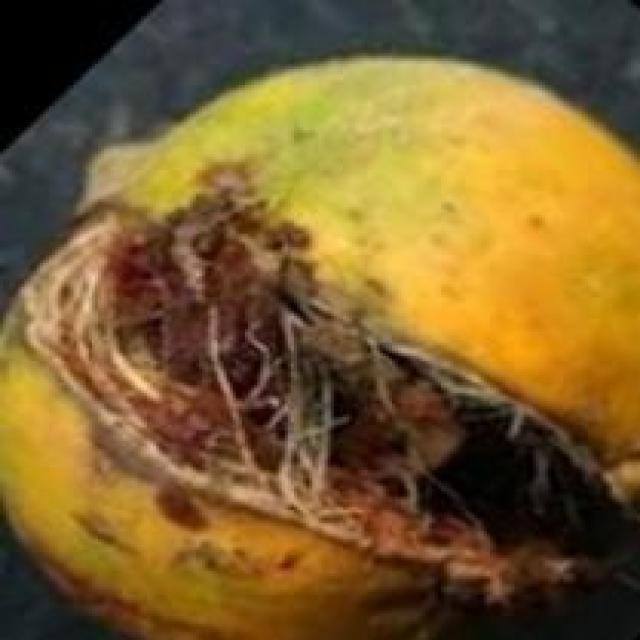damaged: (0, 53, 637, 637)
